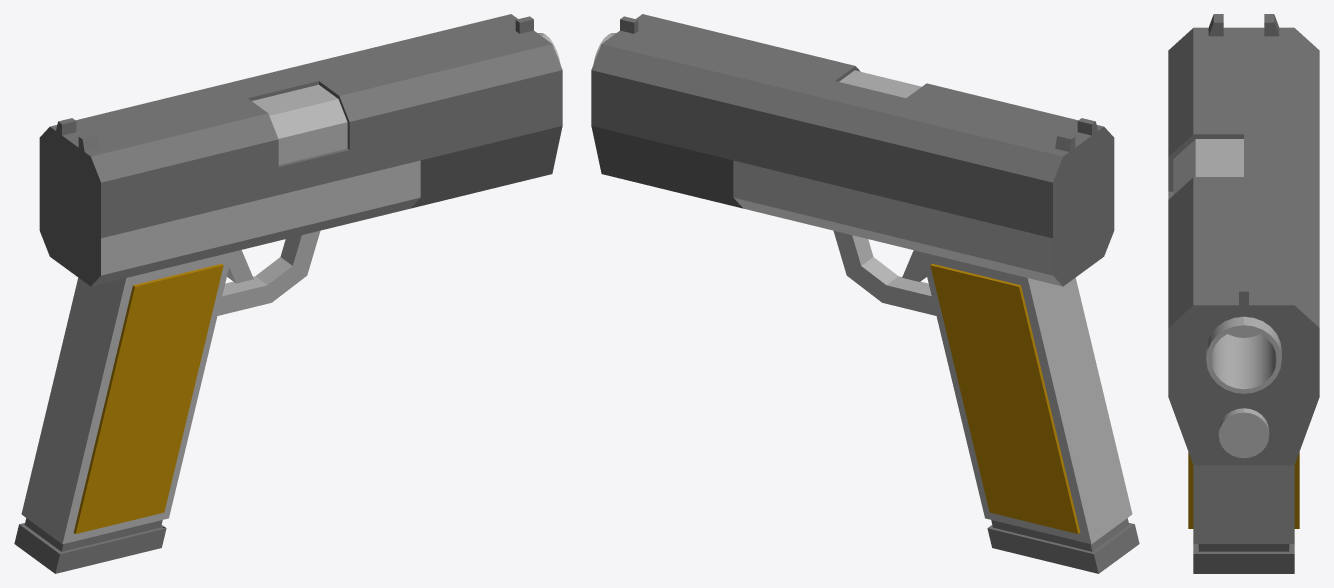
File: gun.fbx
The picture shows the model from 3 angles, left to right: view 1: azimuth 30°, elevation 25°; view 2: azimuth 150°, elevation 25°; view 3: azimuth 270°, elevation 25°; orthographic projection. The views are drawn at different scales.
Visible parts, largest first — view 1: gun2:Mesh1Group1Model; view 2: gun2:Mesh1Group1Model; view 3: gun2:Mesh1Group1Model.
Part boxes in pixels (left/top/right/bottom): gun2:Mesh1Group1Model: left=14, top=14, right=562, bottom=573; gun2:Mesh1Group1Model: left=591, top=14, right=1139, bottom=573; gun2:Mesh1Group1Model: left=1168, top=14, right=1319, bottom=573.
Bounding box in the file's own units: 1.44 × 1.13 × 0.3.
